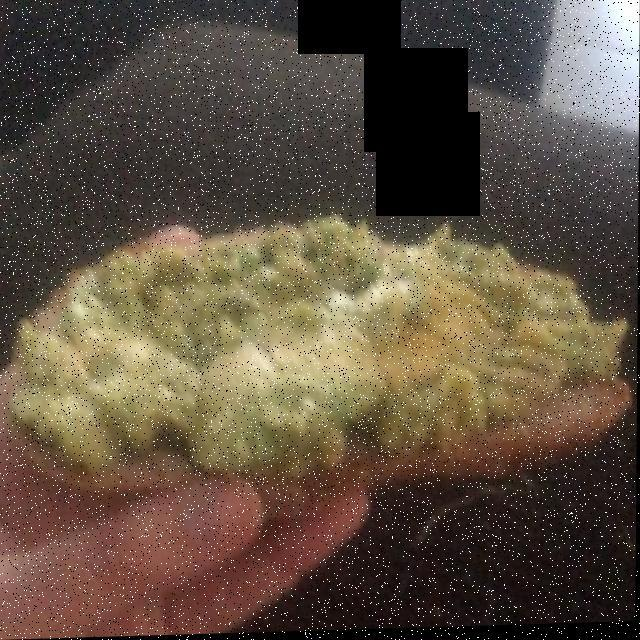bread: (16, 220, 613, 476)
guacamole: (3, 222, 622, 474)
